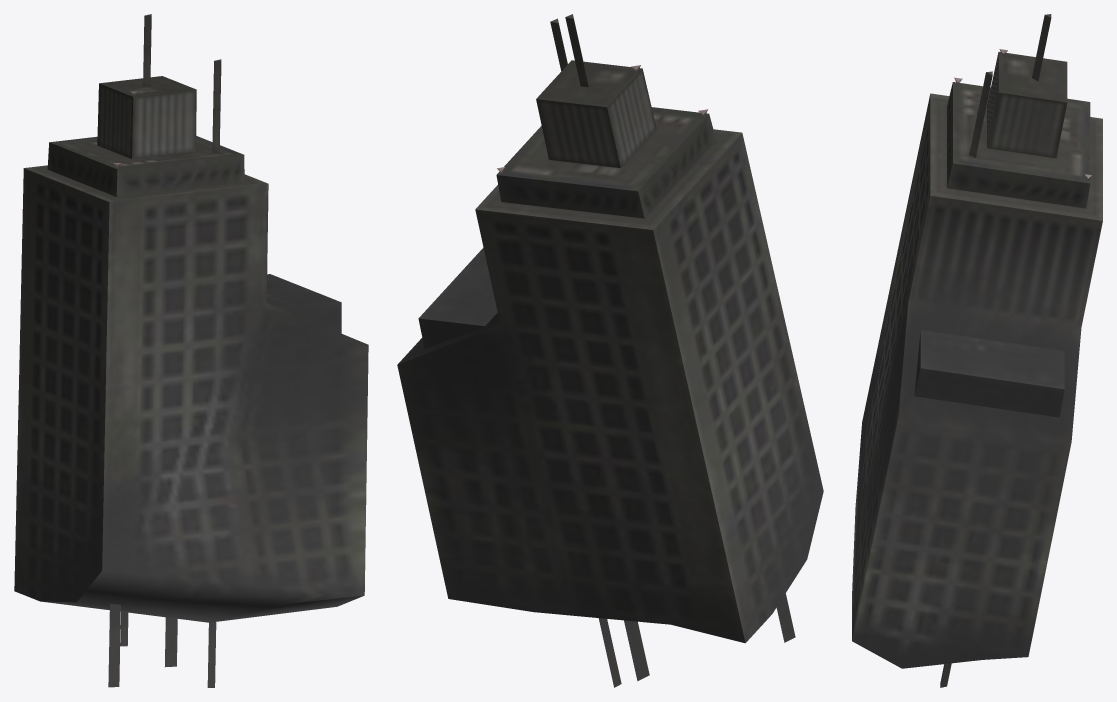
Rendered from skyBuildingAAB_pos_grp (26).fbx.
3 views of the same model, side by side, from view 1: azimuth 30°, elevation 25°; view 2: azimuth 150°, elevation 25°; view 3: azimuth 270°, elevation 25° (orthographic). The views are drawn at different scales.
Parts seen in each view (by area): view 1: skyBuildingAAB_geo; view 2: skyBuildingAAB_geo; view 3: skyBuildingAAB_geo.
Part boxes in pixels (bbox=[...]): skyBuildingAAB_geo: bbox=[14, 14, 368, 687]; skyBuildingAAB_geo: bbox=[397, 14, 823, 687]; skyBuildingAAB_geo: bbox=[852, 14, 1102, 687].
Size of the model in its own units: 4.19 by 8.73 by 2.98.
